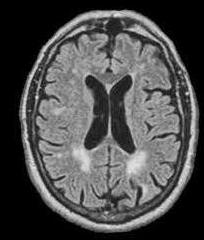Normal_Brain: (1, 7, 204, 229)
